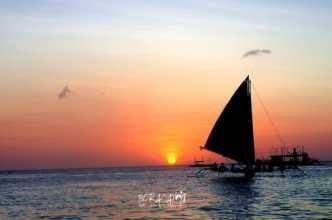fanchuan: (194, 73, 261, 177)
